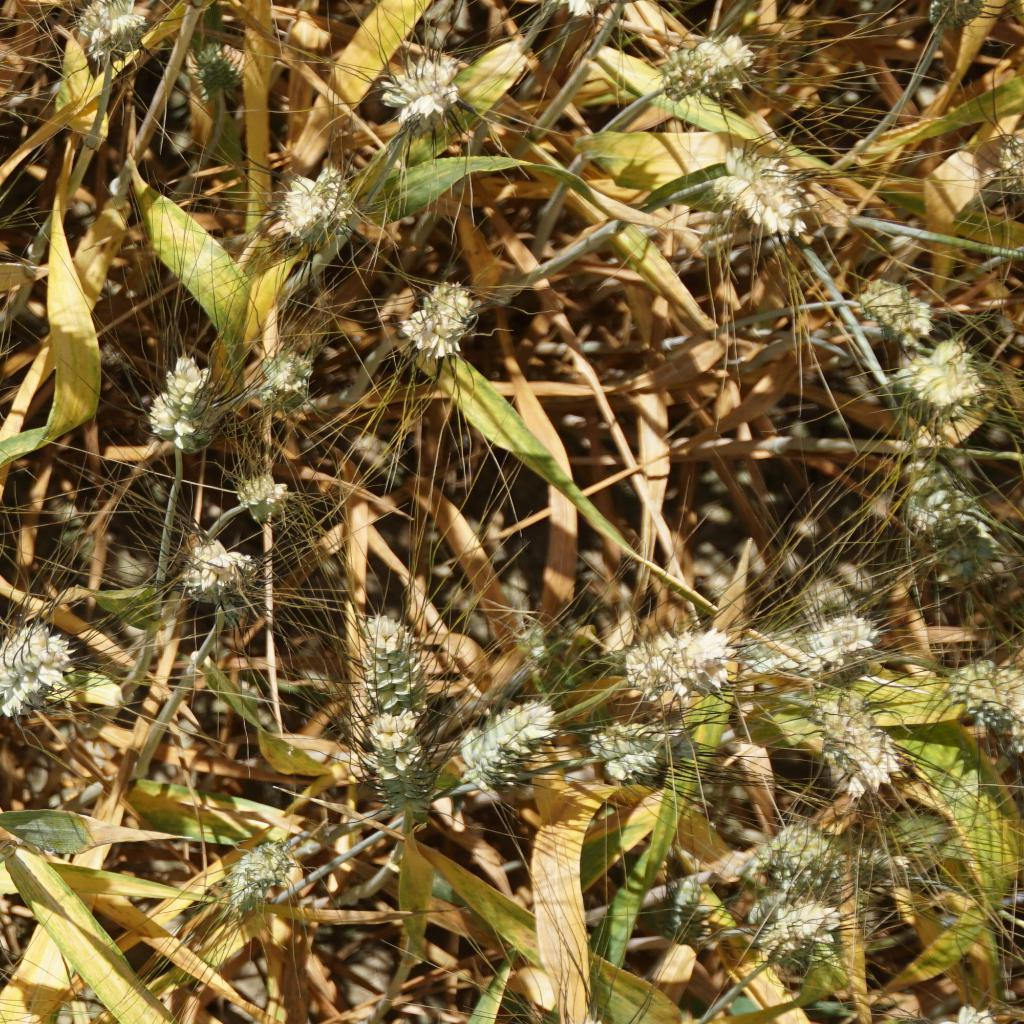0-0: (805, 681, 913, 796), (628, 625, 748, 705), (510, 603, 611, 692), (463, 702, 553, 790), (579, 709, 675, 789), (948, 652, 1024, 749), (0, 618, 64, 731), (722, 157, 810, 239), (658, 22, 756, 95), (358, 612, 425, 709), (859, 263, 950, 334), (368, 709, 428, 813), (290, 169, 361, 250), (403, 283, 479, 358), (211, 836, 290, 908), (147, 361, 213, 444), (771, 810, 837, 888), (76, 0, 146, 73), (796, 604, 877, 662), (904, 341, 976, 406), (176, 544, 252, 605), (908, 460, 971, 533), (763, 886, 828, 955), (403, 58, 469, 124), (659, 868, 722, 935), (861, 832, 921, 899), (935, 512, 996, 577), (252, 358, 321, 415), (190, 34, 240, 93), (937, 994, 1018, 1024), (237, 475, 284, 520), (554, 1011, 635, 1024)
